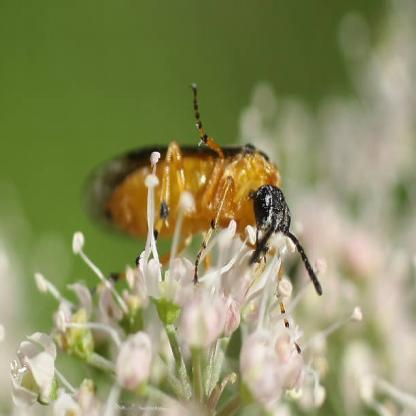sawfly: (78, 83, 325, 358)
